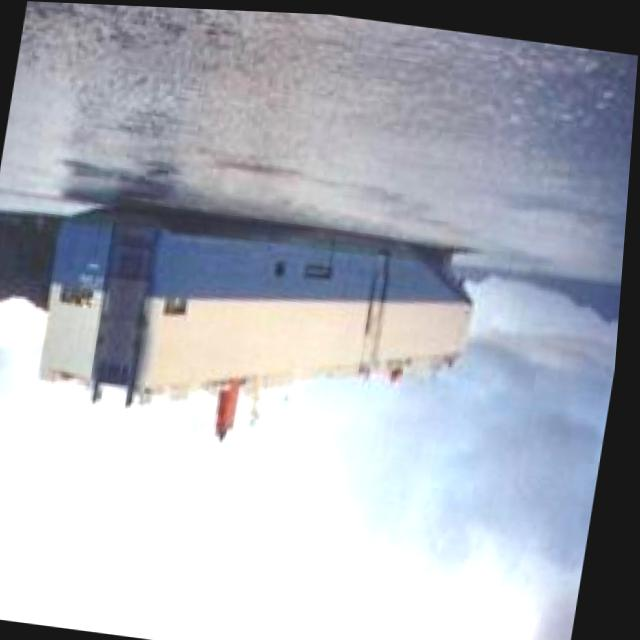ship2: (44, 201, 479, 439)
